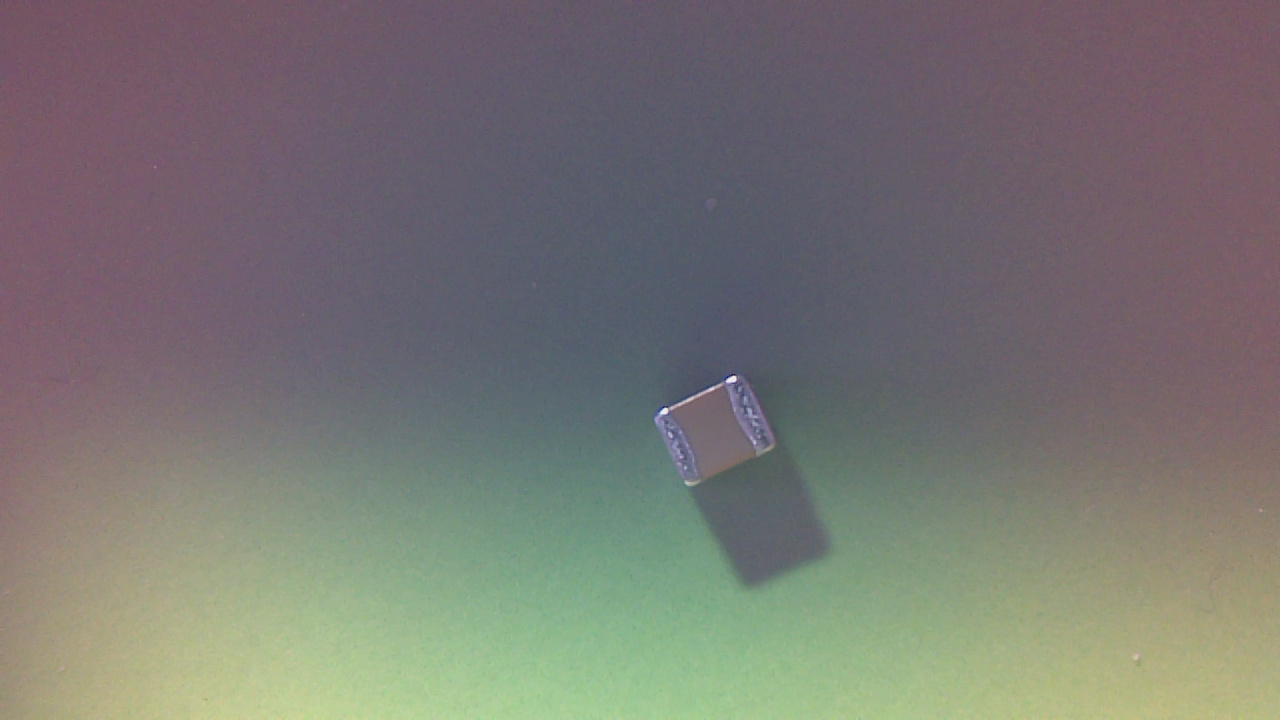Condensator: (658, 373, 786, 495)
